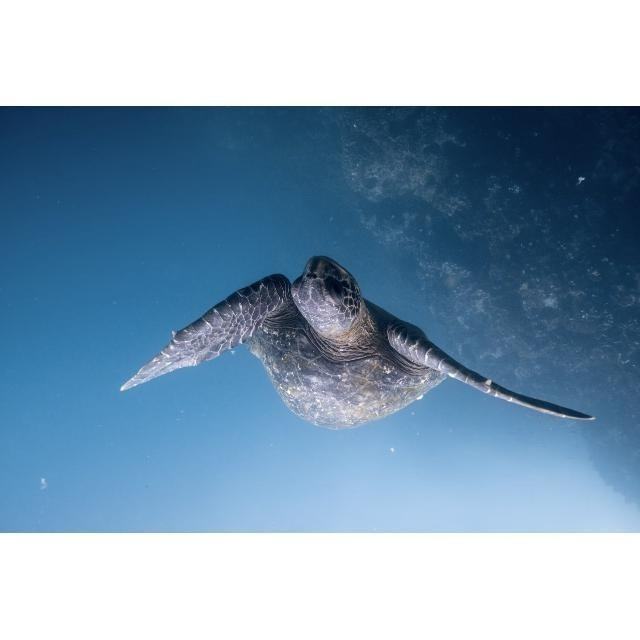turtle: (118, 254, 599, 430)
